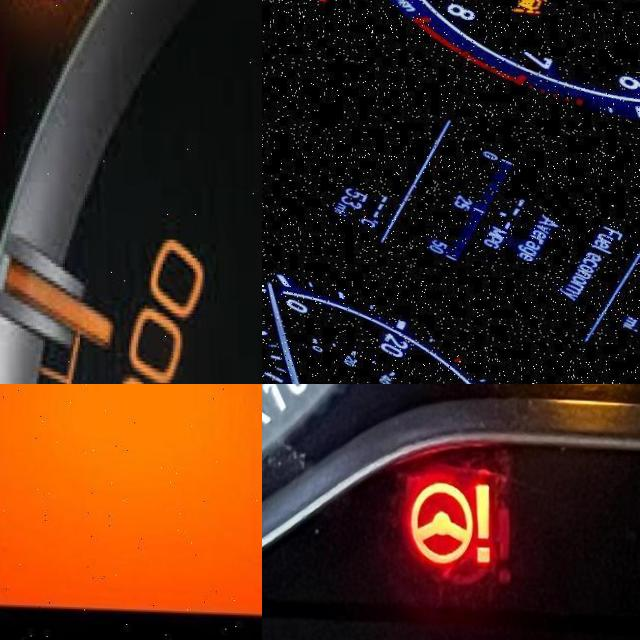Electronic Power Steering: (396, 463, 504, 579), (285, 0, 353, 12)
